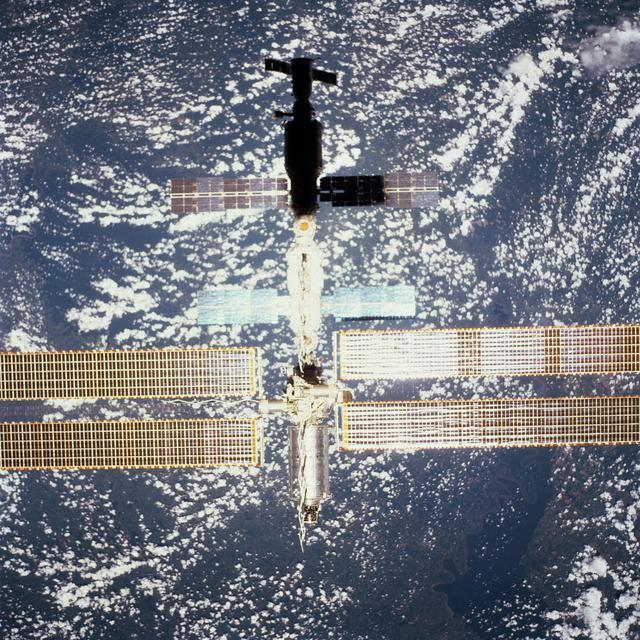medium_debris: (0, 58, 640, 524)
